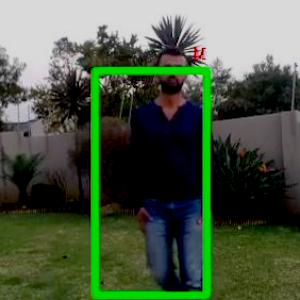follow: (129, 38, 220, 299)
